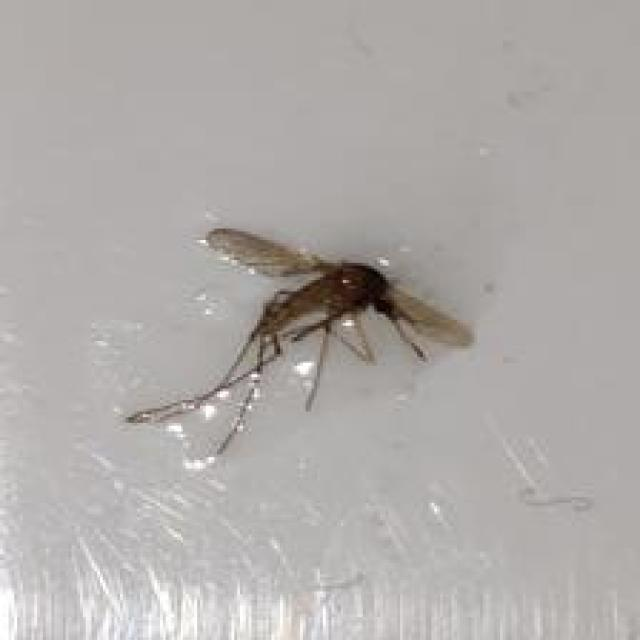Culex: (124, 224, 476, 456)
